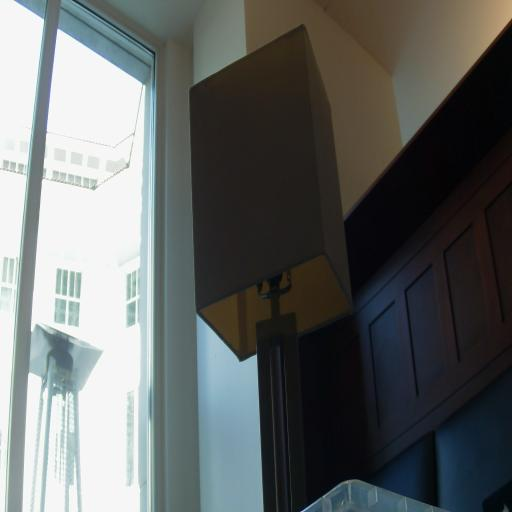lamp: (187, 23, 352, 512)
